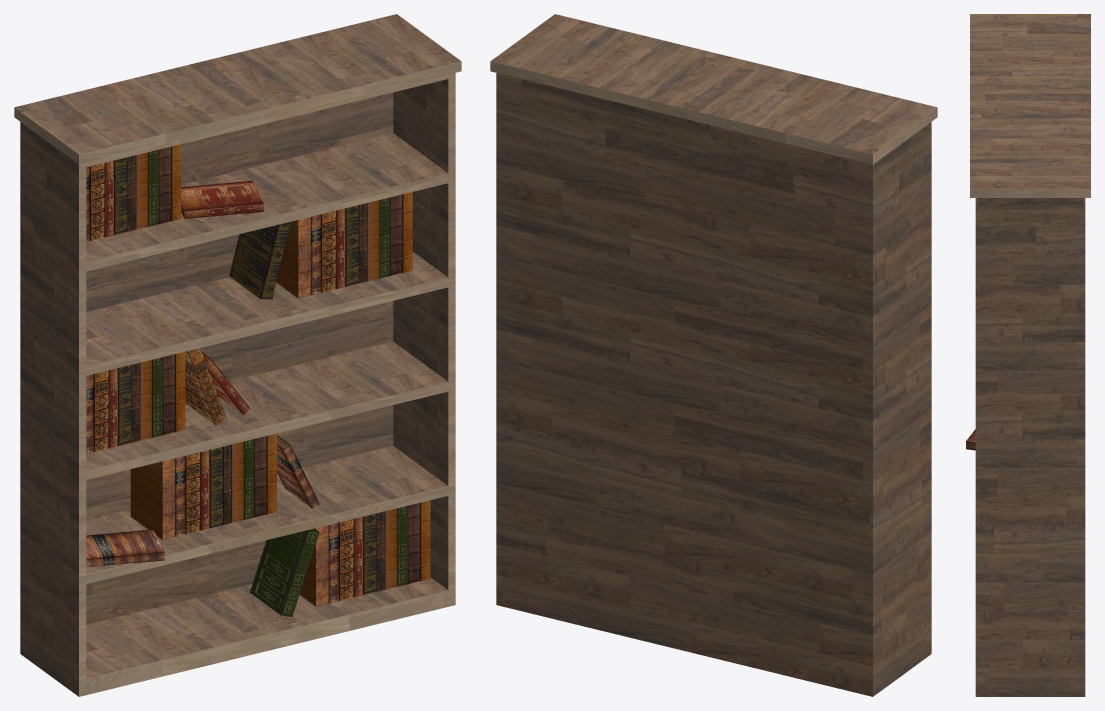
File: shelf.glb
3 renders of one model, left to right at view 1: azimuth 30°, elevation 25°; view 2: azimuth 150°, elevation 25°; view 3: azimuth 270°, elevation 25°, orthographic. The views are drawn at different scales.
Visible parts, largest first — view 1: Base, BookCollection05, BookCollection03, BookCollection02, BookCollection01, BookCollection04, Book004, Book007, Book003, Book002, Book006, Book001 (+1 smaller); view 2: Base; view 3: Base.
Boxes of the visible parts, x1,y1,x2,y2 form: Base: [14, 14, 461, 696]; BookCollection05: [130, 433, 276, 539]; BookCollection03: [276, 192, 412, 298]; BookCollection02: [299, 500, 430, 606]; BookCollection01: [86, 351, 185, 453]; BookCollection04: [86, 144, 181, 241]; Book004: [249, 528, 319, 616]; Book007: [229, 221, 290, 299]; Book003: [181, 181, 263, 218]; Book002: [86, 529, 164, 567]; Book006: [185, 348, 226, 425]; Book001: [277, 435, 319, 508]; Base: [490, 14, 937, 696]; Base: [970, 14, 1090, 696].
Bounding box in the file's own units: 30.74 × 41.87 × 9.29.
Materials: 3 (3 with a texture image).
